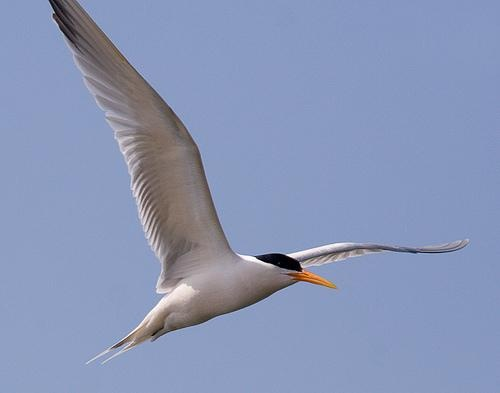bird: (43, 1, 468, 371)
